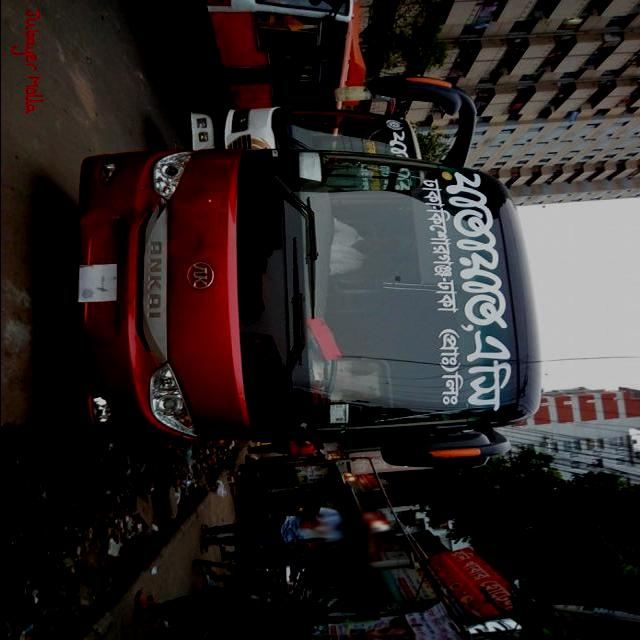bus: (76, 74, 542, 470)
